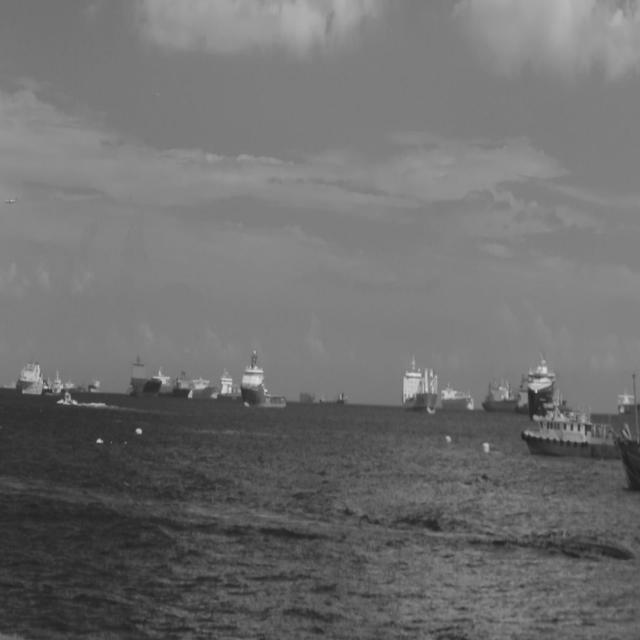buoy: (481, 440, 490, 454), (134, 426, 142, 436)
ship: (520, 386, 618, 460), (526, 348, 568, 420), (240, 345, 286, 408), (401, 353, 438, 414), (613, 430, 640, 491), (126, 354, 162, 398), (481, 371, 518, 412), (440, 381, 474, 411), (183, 372, 218, 400), (217, 363, 241, 401), (618, 386, 640, 416), (171, 368, 191, 396), (319, 392, 348, 408), (50, 368, 64, 396), (87, 376, 101, 393), (62, 389, 73, 406)
